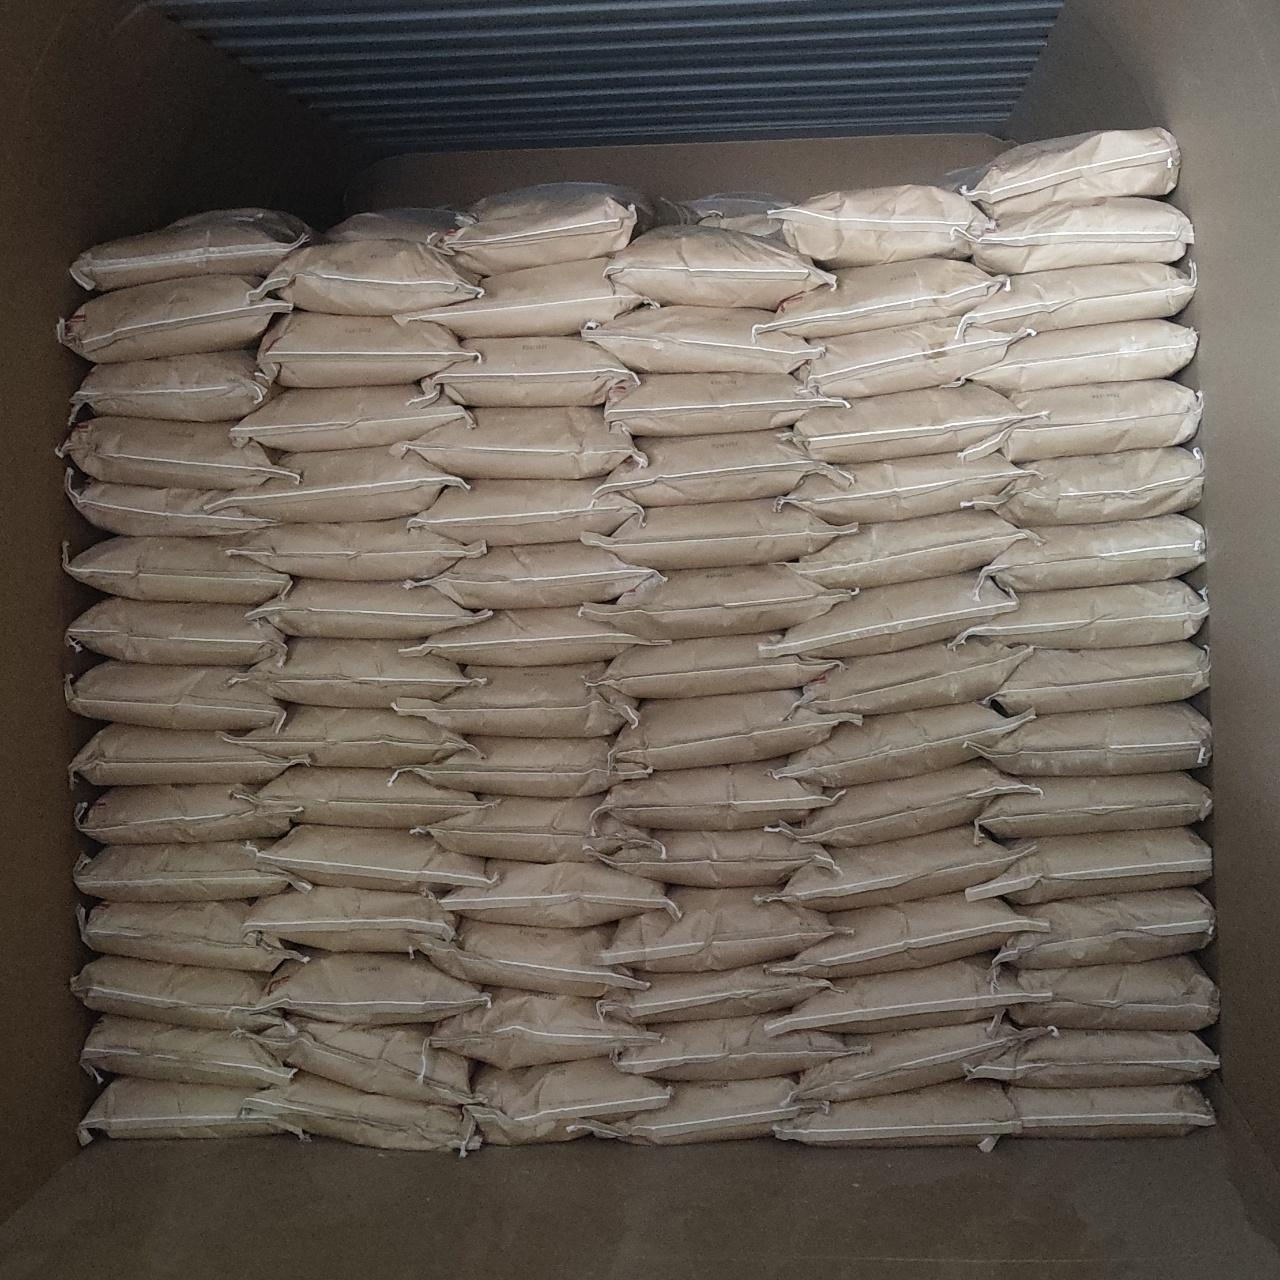sack: (424, 184, 670, 274), (762, 826, 1028, 910), (770, 894, 1044, 974), (796, 1020, 1054, 1099), (784, 762, 1034, 844), (768, 956, 1044, 1030), (782, 704, 1028, 787), (584, 564, 852, 638), (72, 207, 314, 288), (776, 574, 1014, 656), (604, 225, 835, 309), (782, 384, 1040, 459), (392, 260, 652, 334), (57, 275, 290, 358), (246, 1073, 478, 1155), (968, 128, 1178, 218), (756, 260, 1005, 336), (788, 510, 1028, 588), (798, 316, 1028, 396), (968, 828, 1212, 903), (974, 380, 1201, 459), (606, 888, 832, 968), (617, 690, 856, 765), (583, 498, 844, 566), (251, 239, 482, 315), (974, 448, 1204, 524), (414, 920, 644, 996), (600, 433, 844, 504), (260, 1020, 472, 1102), (224, 445, 462, 518), (778, 452, 1028, 522), (994, 888, 1214, 966), (394, 663, 634, 734), (774, 186, 990, 264), (470, 1058, 670, 1142), (400, 408, 636, 478), (433, 990, 654, 1065), (60, 416, 290, 488), (956, 580, 1206, 646), (799, 640, 1028, 712), (983, 516, 1204, 590), (598, 760, 835, 828), (978, 704, 1210, 774), (962, 263, 1194, 332), (971, 320, 1194, 392), (776, 1080, 1014, 1146), (260, 952, 484, 1022), (416, 542, 660, 606), (72, 956, 284, 1030), (82, 1014, 294, 1088), (614, 1014, 856, 1078), (440, 860, 676, 926), (232, 384, 468, 450), (583, 306, 816, 372), (1005, 956, 1218, 1028), (66, 660, 282, 730), (80, 903, 300, 972), (978, 772, 1210, 838), (258, 312, 472, 382), (592, 1076, 822, 1142), (394, 736, 646, 796), (64, 536, 288, 602), (990, 642, 1206, 712), (974, 200, 1190, 270), (226, 518, 484, 576), (418, 796, 648, 860), (424, 336, 638, 406), (416, 478, 638, 544), (244, 638, 468, 702), (608, 372, 840, 434), (263, 826, 490, 890), (594, 634, 835, 694), (72, 350, 278, 420), (236, 706, 470, 765), (68, 598, 284, 662), (80, 1078, 300, 1141), (971, 1030, 1218, 1085), (76, 842, 308, 900), (250, 580, 486, 638), (256, 768, 486, 826), (600, 964, 830, 1022), (72, 724, 297, 784), (244, 886, 456, 949), (602, 830, 836, 886), (400, 608, 642, 662), (68, 476, 280, 536), (76, 784, 288, 842), (1005, 1084, 1214, 1133)
